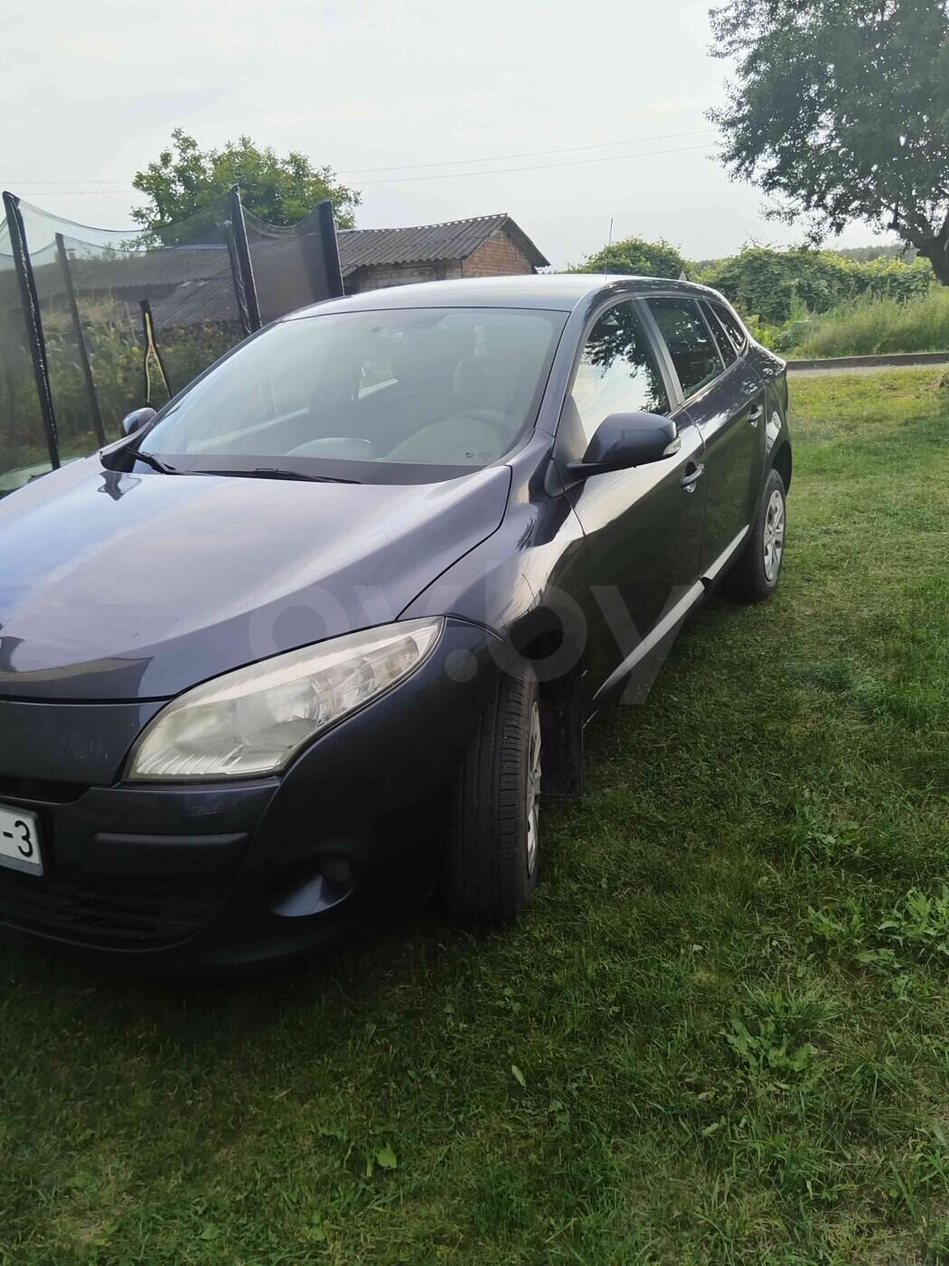Megane_2008-2014: (0, 275, 788, 960)
